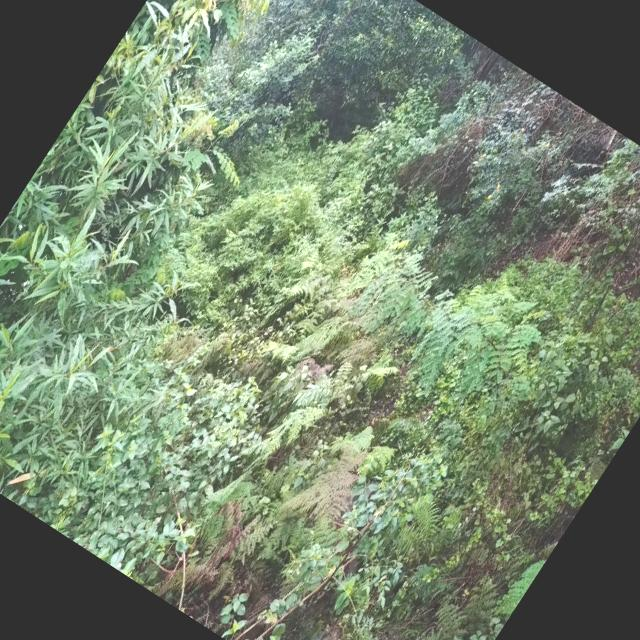Mysore-Thorn-Weed: (326, 234, 531, 421)
